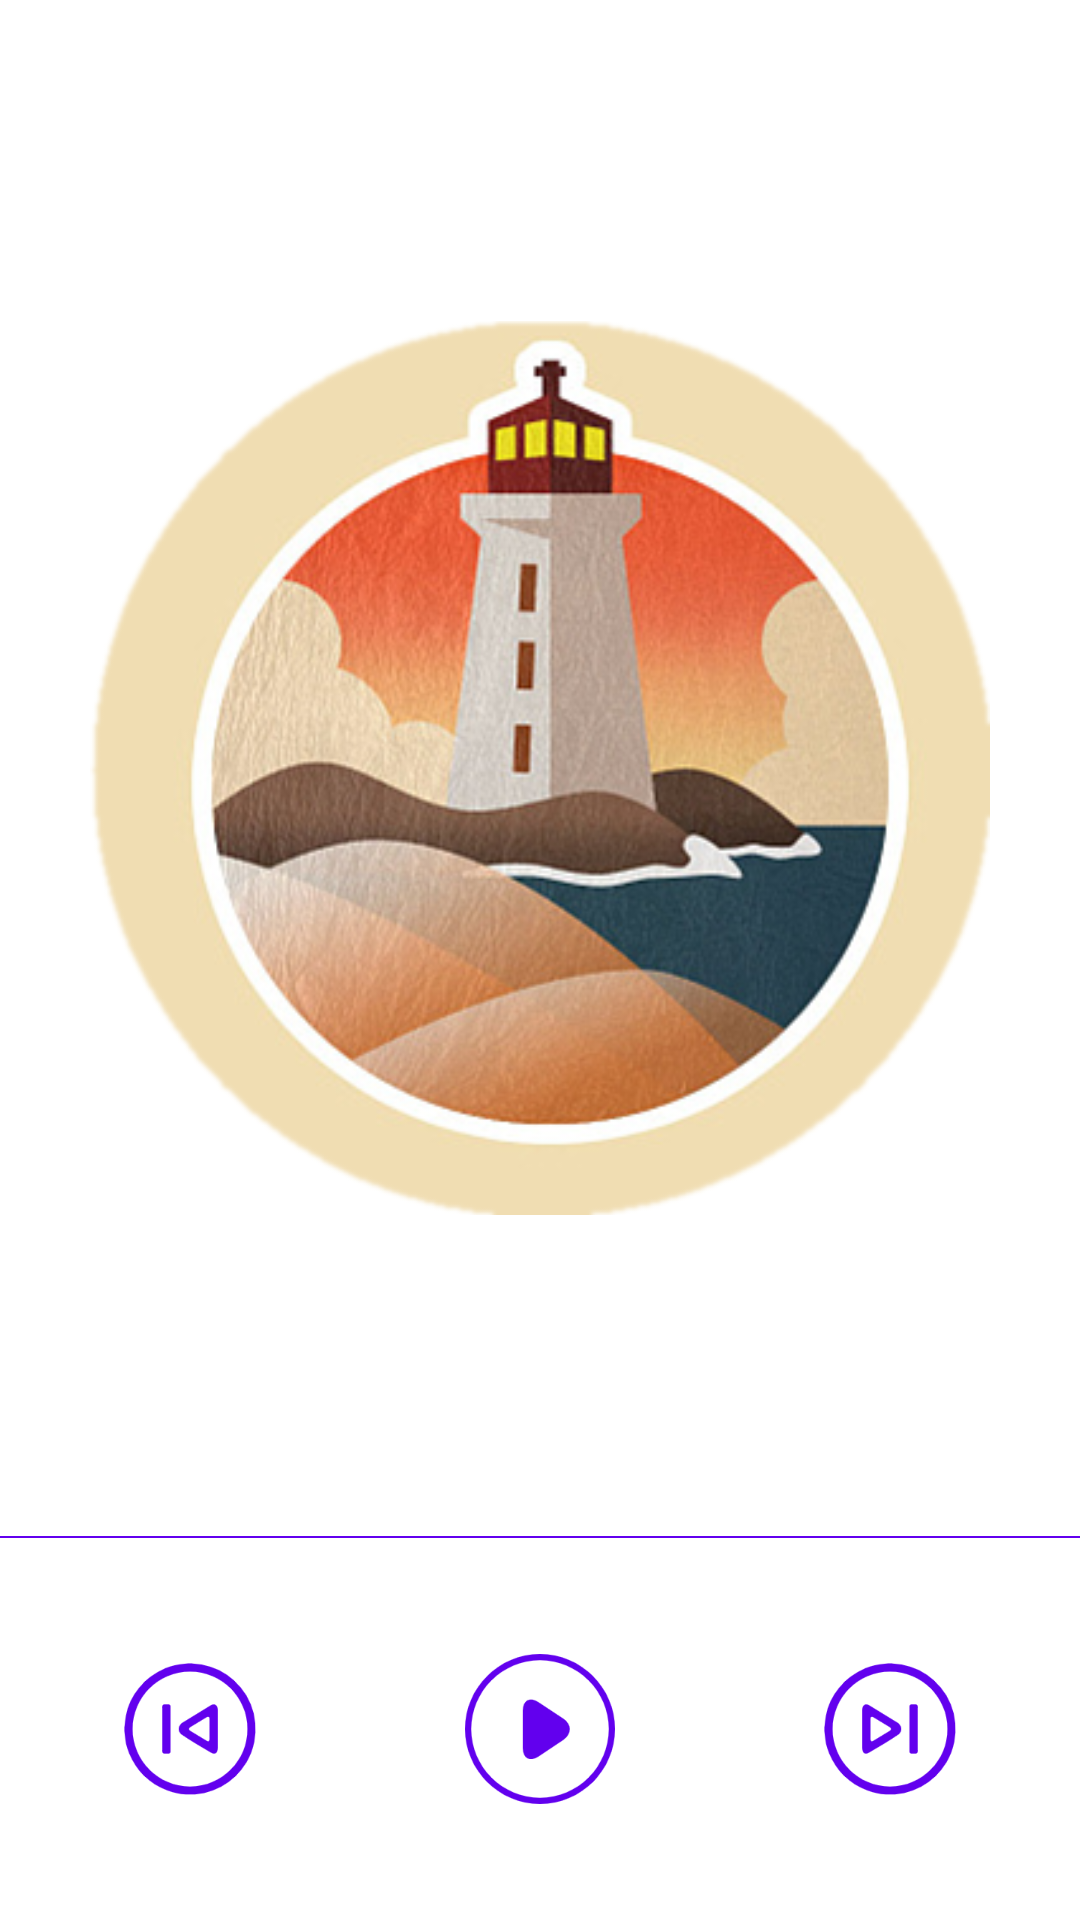

Locate icon controls on the screen. Image size 1080x1920, boxes as BBox(x1, y1, x2, y2).
next: BBox(824, 1663, 956, 1795)
shang: BBox(124, 1663, 256, 1795)
start: BBox(465, 1654, 615, 1804)
